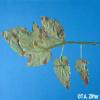Tomato mold leaf: (1, 13, 66, 69), (53, 55, 74, 91), (75, 58, 92, 86)
